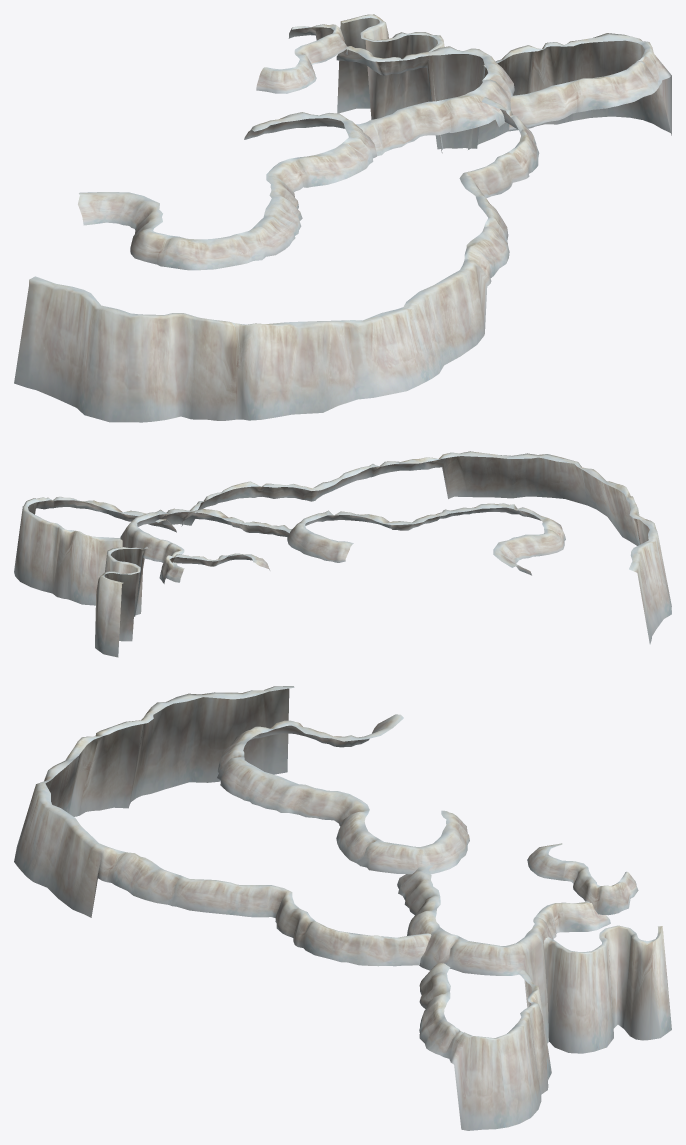
The model's file is M5_T_shanbii002.FBX.
The picture shows the model from 3 angles, top to bottom: view 1: azimuth 30°, elevation 25°; view 2: azimuth 150°, elevation 25°; view 3: azimuth 270°, elevation 25°; orthographic projection. The views are drawn at different scales.
Parts seen in each view (by area): view 1: M5_T_shanbii002; view 2: M5_T_shanbii002; view 3: M5_T_shanbii002.
Part boxes in pixels (x1,y1,x2,y2): M5_T_shanbii002: [14, 14, 671, 422]; M5_T_shanbii002: [14, 451, 671, 657]; M5_T_shanbii002: [14, 686, 671, 1130].
Size of the model in its own units: 6886 by 1072 by 5339.
